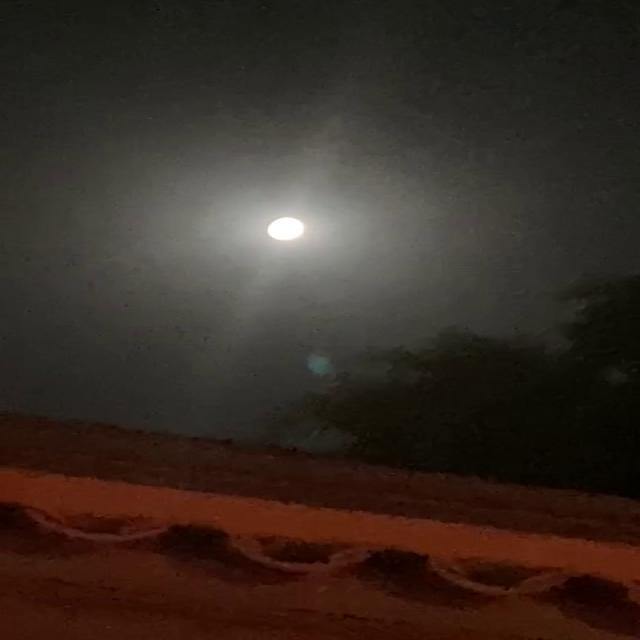moon: (269, 207, 328, 246)
